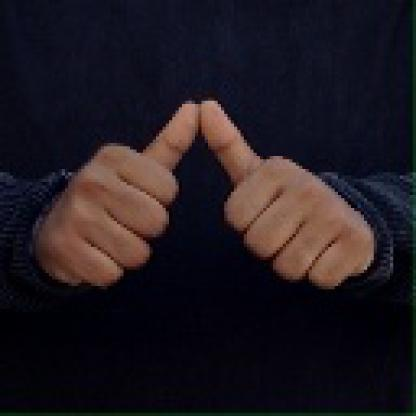A: (44, 92, 372, 316)
